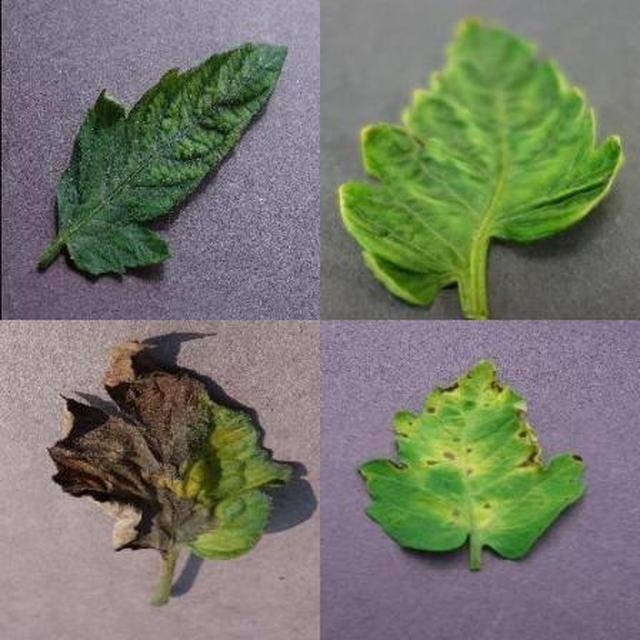Mosaic Virus Leaf: (244, 231, 640, 640)
